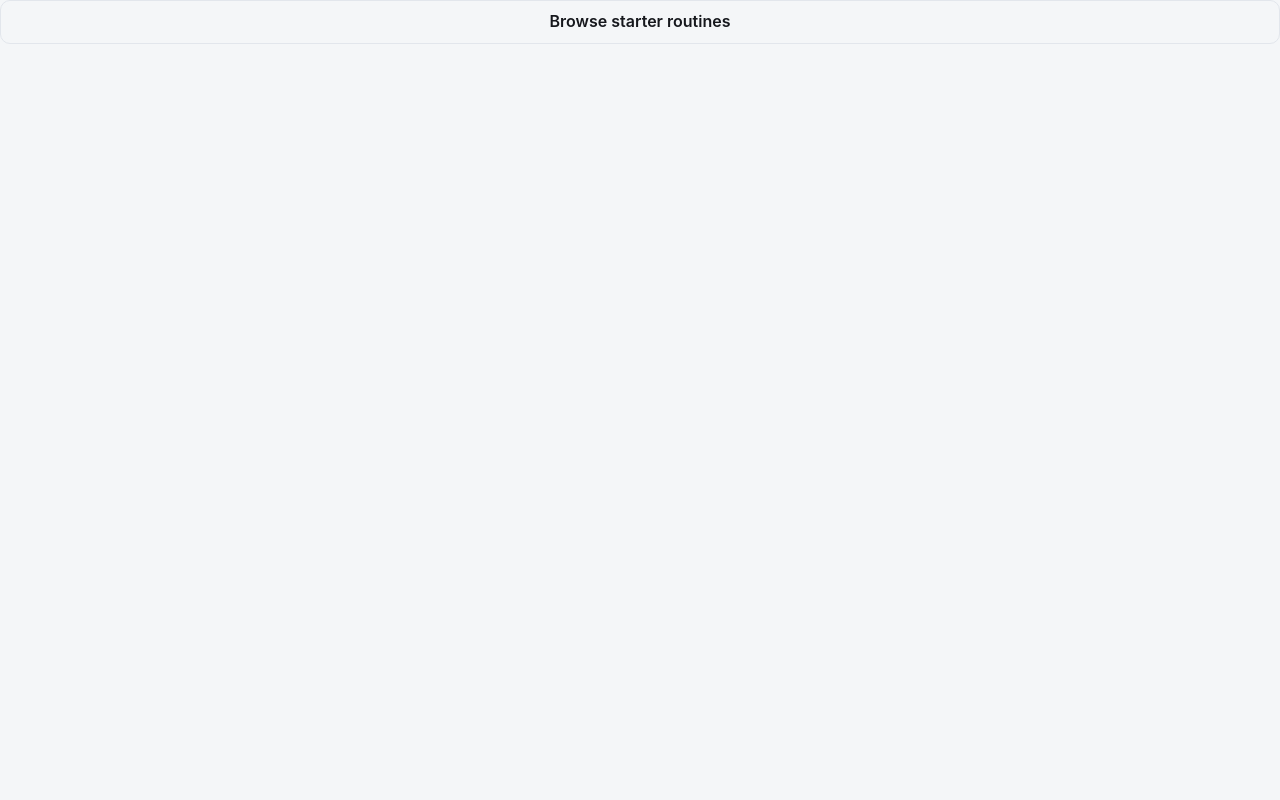
Test case: starter routines › adds a copy to your routines once, with sets and targets
Later steps or results of the test are not shown.
Click the button "Browse starter routines" at (640, 22), box x1=0 y1=0 x2=1279 y2=44
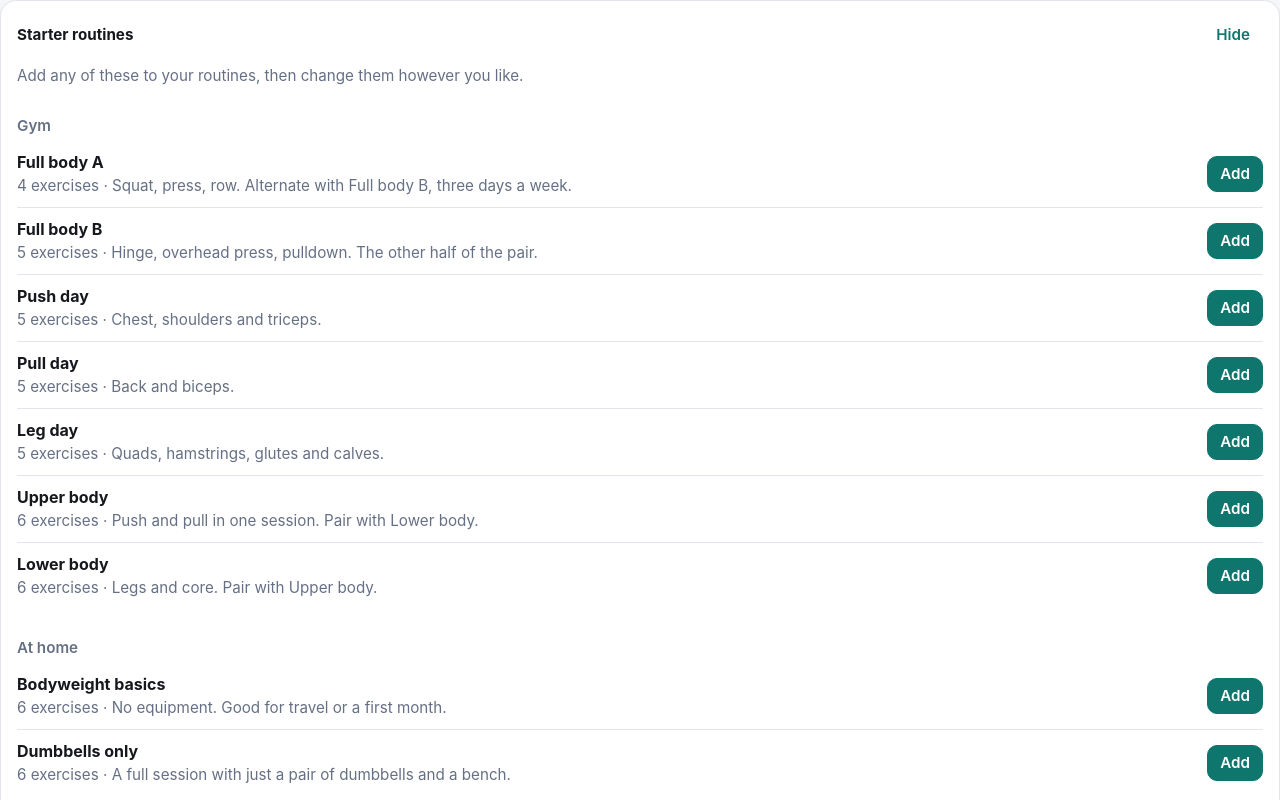
Click the button with aria-label "Add Full body A" at (1235, 174), box x1=1207 y1=156 x2=1263 y2=192
Now the text "Full body A" is shown, box x1=17 y1=152 x2=104 y2=172
